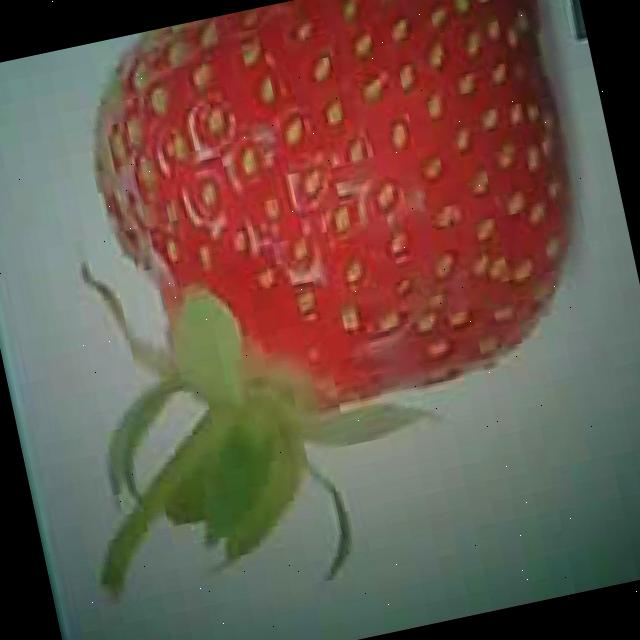strawberry: (66, 0, 610, 461)
